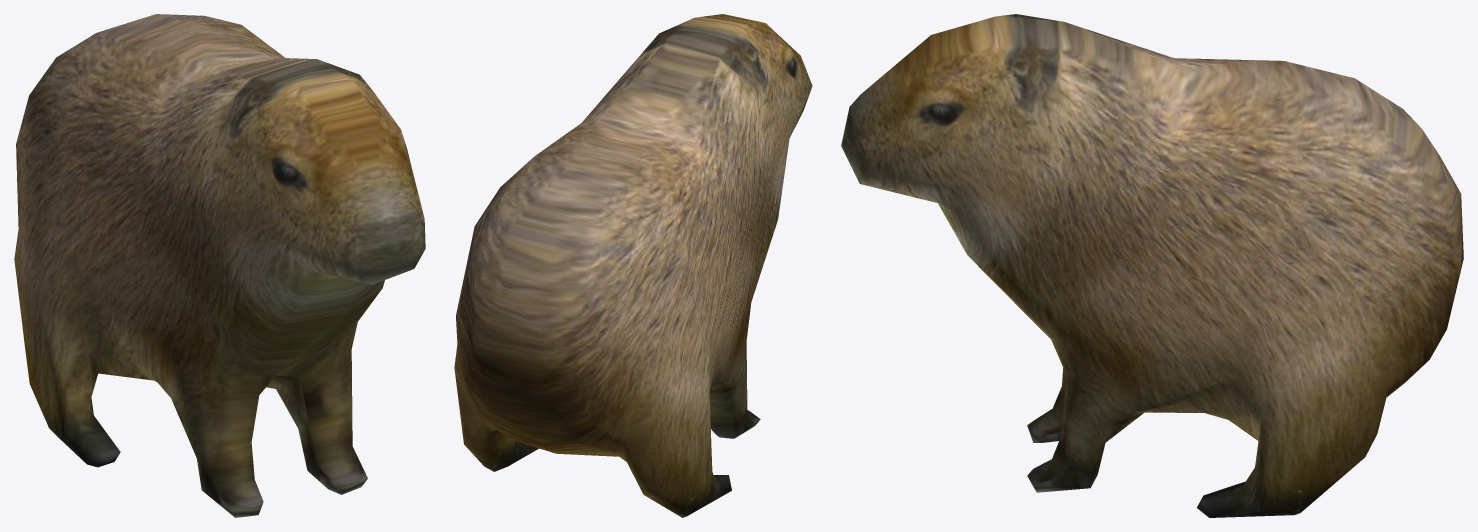
The model's file is Capy.fbx.
3 renders of one model, left to right at view 1: azimuth 30°, elevation 25°; view 2: azimuth 150°, elevation 25°; view 3: azimuth 270°, elevation 25°, orthographic. The views are drawn at different scales.
Parts seen in each view (by area): view 1: Carpincho; view 2: Carpincho; view 3: Carpincho.
Boxes of the visible parts, x1,y1,x2,y2 form: Carpincho: (14, 14, 425, 517); Carpincho: (454, 14, 812, 517); Carpincho: (841, 14, 1463, 517).
Size of the model in its own units: 0.4403 by 0.8905 by 0.6896.
